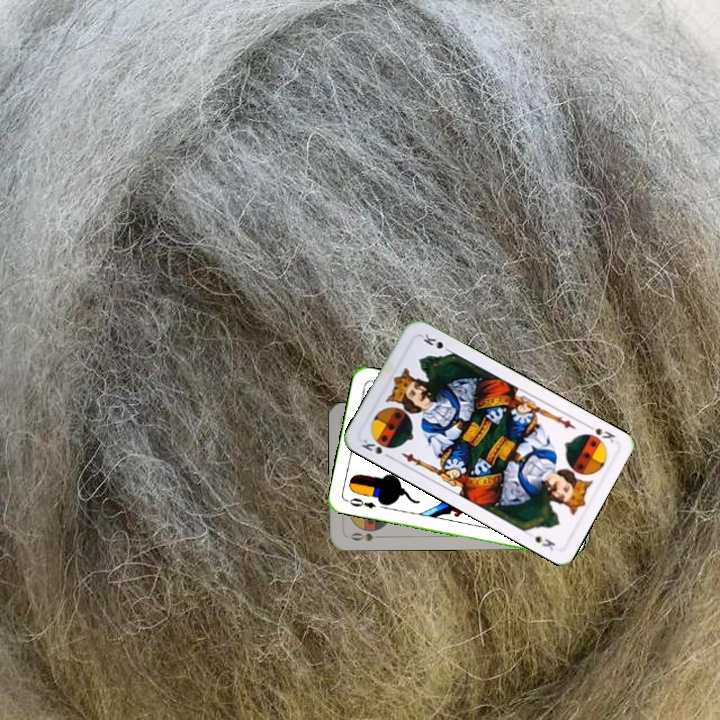EO: (342, 494, 379, 511)
SK: (357, 435, 395, 461), (582, 420, 618, 445)
SO: (344, 529, 384, 543)
